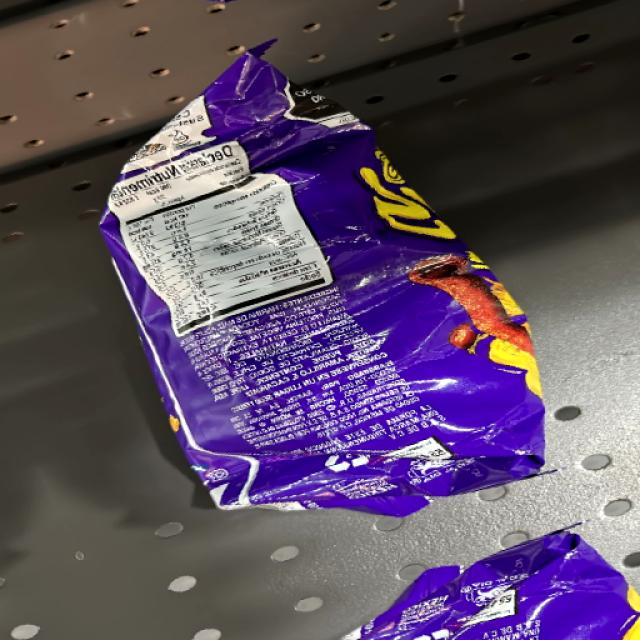takisFuego: (190, 79, 527, 507)
